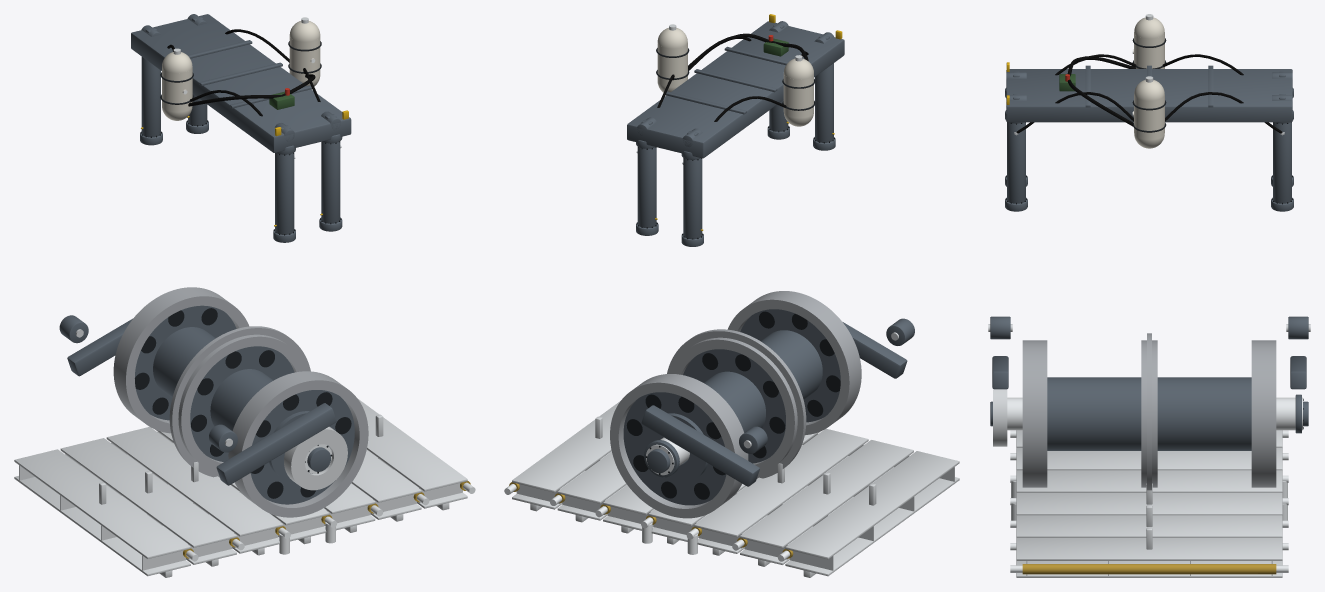
The model's file is station.glb.
The picture shows the model from 3 angles, left to right: view 1: azimuth 30°, elevation 25°; view 2: azimuth 150°, elevation 25°; view 3: azimuth 270°, elevation 25°; orthographic projection.
Visible parts, largest first — view 1: trackrun, wheel, manifold, cyl, arms, bearing, acc0, acc1, hose; view 2: trackrun, wheel, manifold, cyl, arms, acc0, acc1, hose, axle; view 3: trackrun, wheel, manifold, cyl, arms, acc1, hose, acc0, axle, bearing.
Boxes of the visible parts, x1,y1,x2,y2 form: trackrun: (14,399,475,577); wheel: (113,287,368,517); manifold: (131,14,351,152); cyl: (140,16,342,242); arms: (59,315,336,485); bearing: (284,426,347,490); acc0: (160,48,193,120); acc1: (288,17,321,86); hose: (167,29,340,148); trackrun: (504,401,959,577); wheel: (610,291,861,518); manifold: (627,14,844,158); cyl: (636,23,835,246); arms: (641,318,914,486); acc0: (782,55,815,126); acc1: (656,24,689,92); hose: (657,33,808,164); axle: (644,437,689,477); trackrun: (1010,430,1288,577); wheel: (1022,333,1276,490); manifold: (1006,62,1292,122); cyl: (1005,71,1293,211); arms: (988,316,1310,426); acc1: (1132,76,1166,148); hose: (1014,54,1284,134); acc0: (1132,14,1166,68); axle: (1007,394,1303,433); bearing: (993,389,1007,446).
Size of the model in its own units: 18.39 by 24.95 by 15.76.
